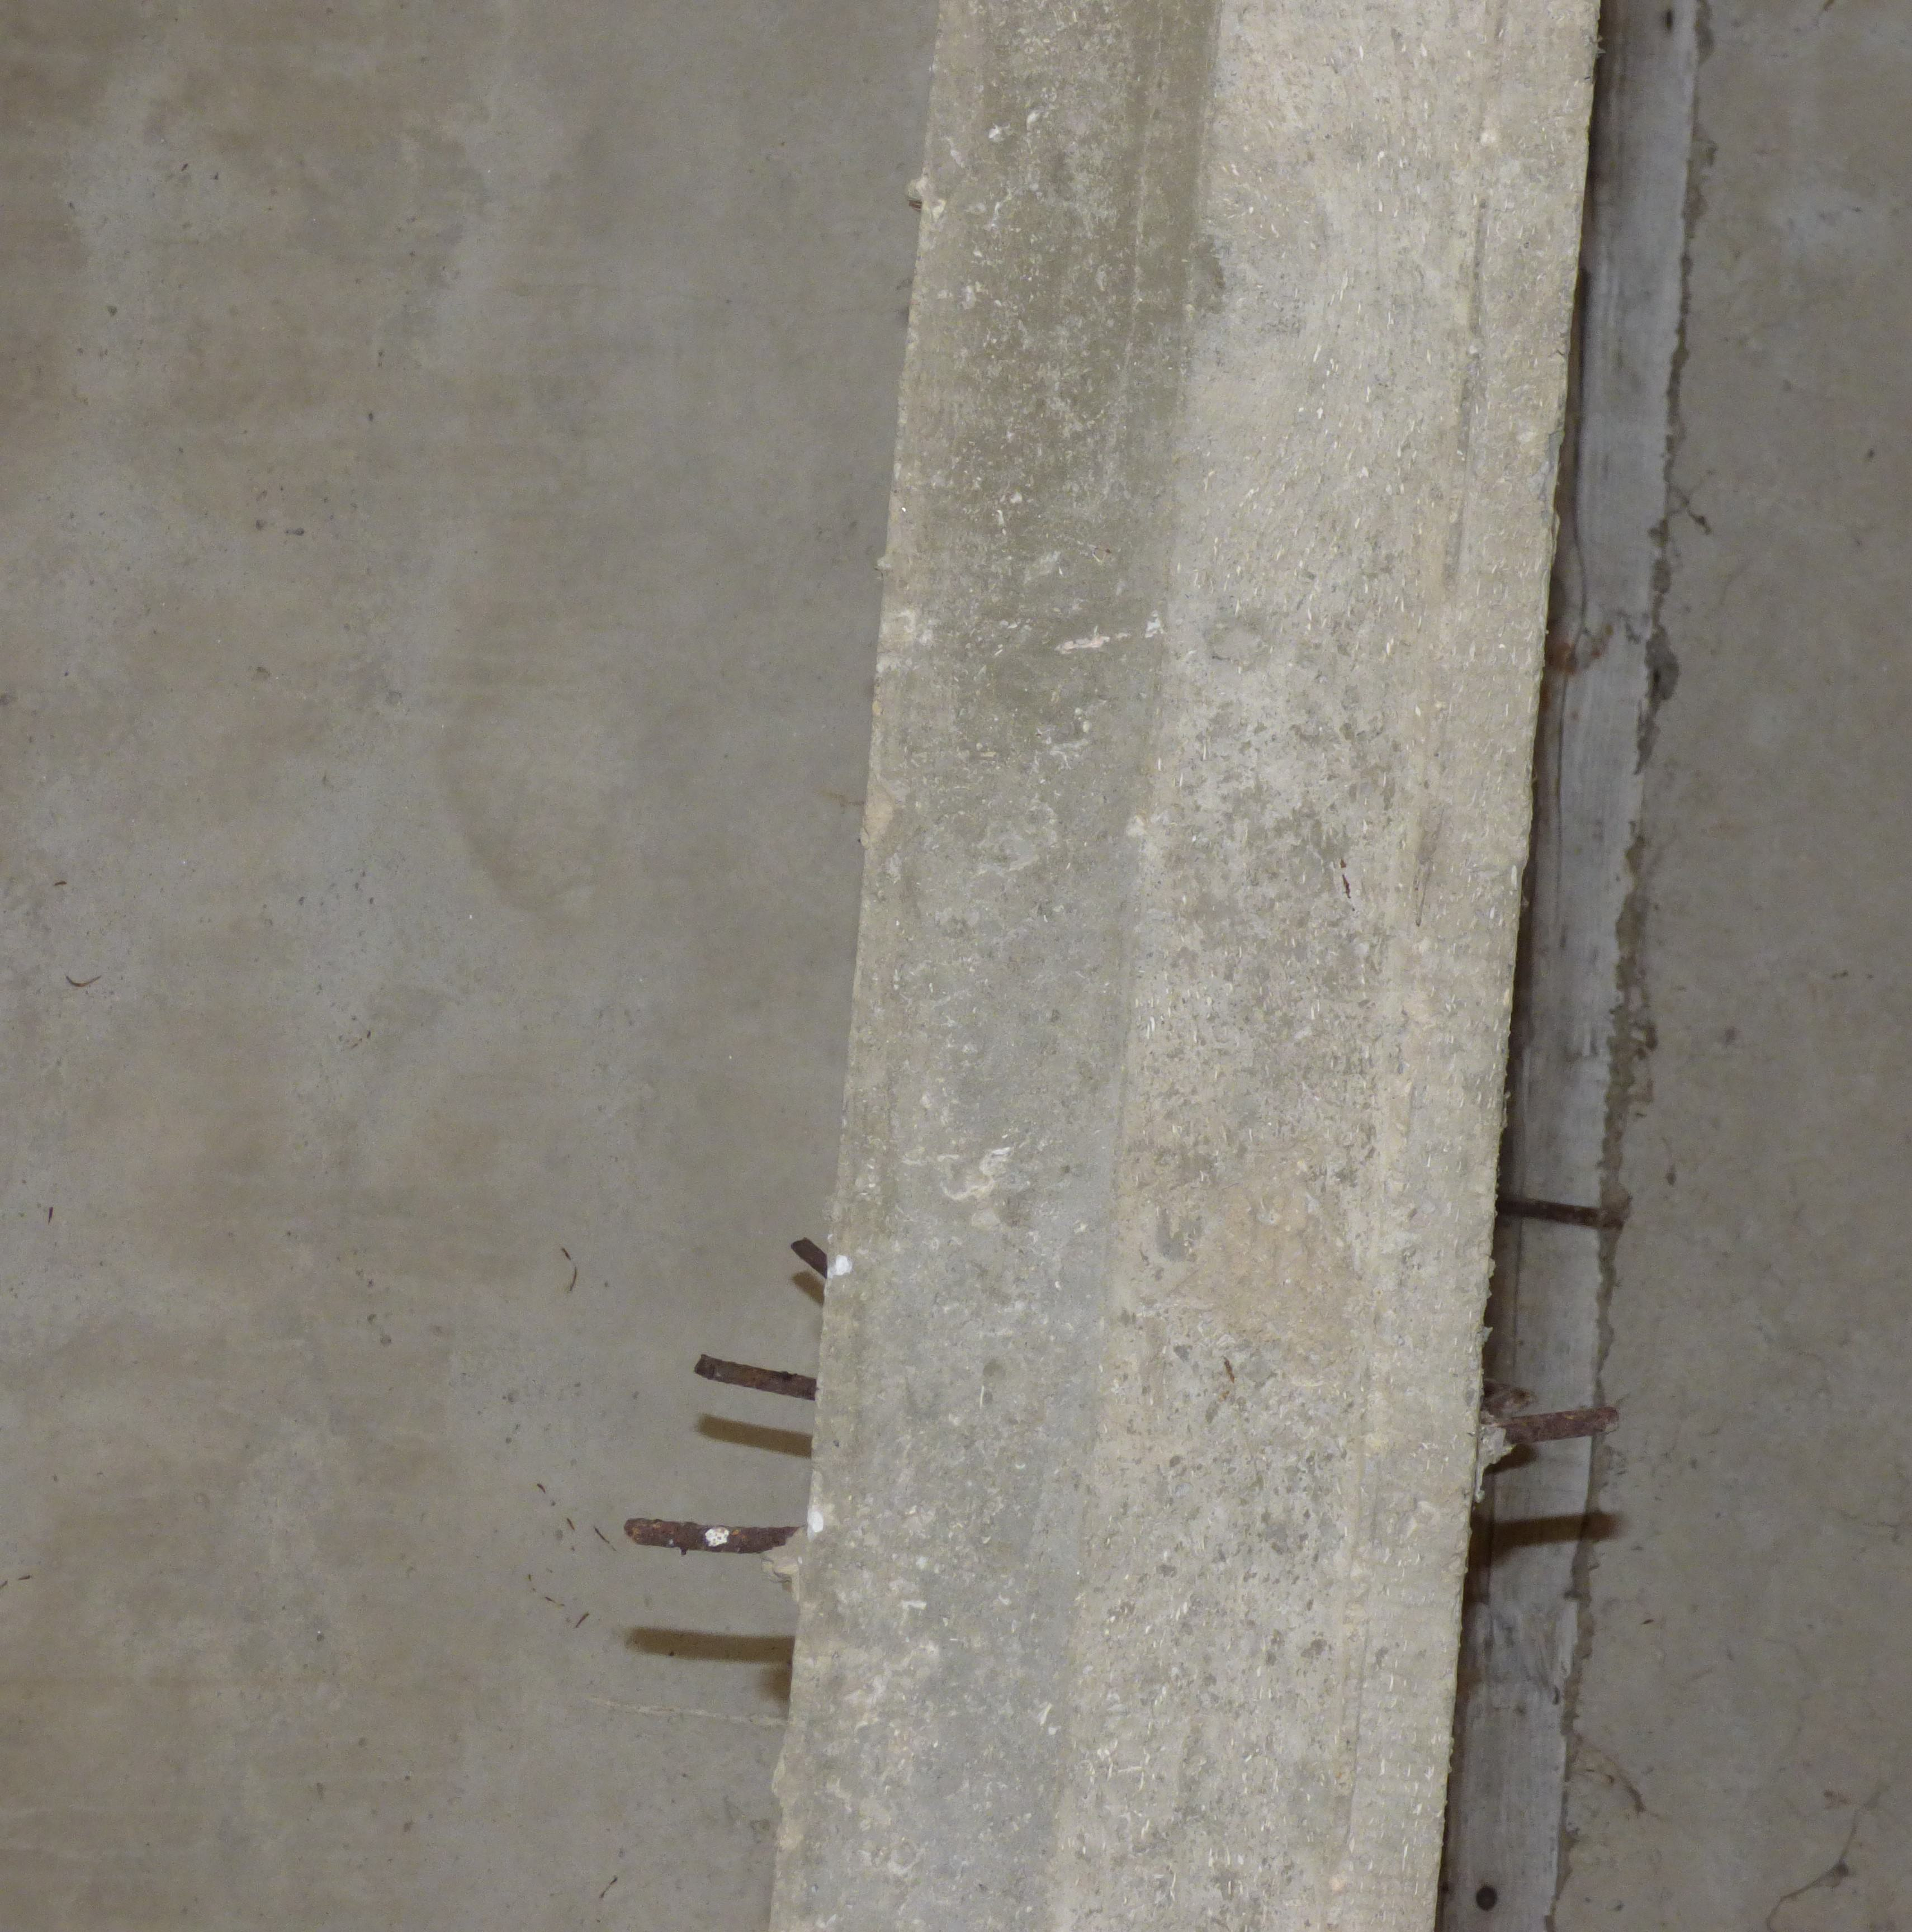Exposed reinforcement: (623, 1517, 800, 1556), (693, 1353, 816, 1402), (1495, 1192, 1625, 1232), (1497, 1407, 1620, 1445), (790, 1235, 828, 1281), (562, 1248, 578, 1291), (65, 975, 102, 987), (594, 1526, 611, 1547), (576, 1612, 590, 1629), (543, 1596, 566, 1606), (566, 1517, 576, 1533), (536, 1482, 548, 1494), (54, 880, 68, 887), (47, 1207, 53, 1225)
Spalling: (1476, 1885, 1499, 1911)
